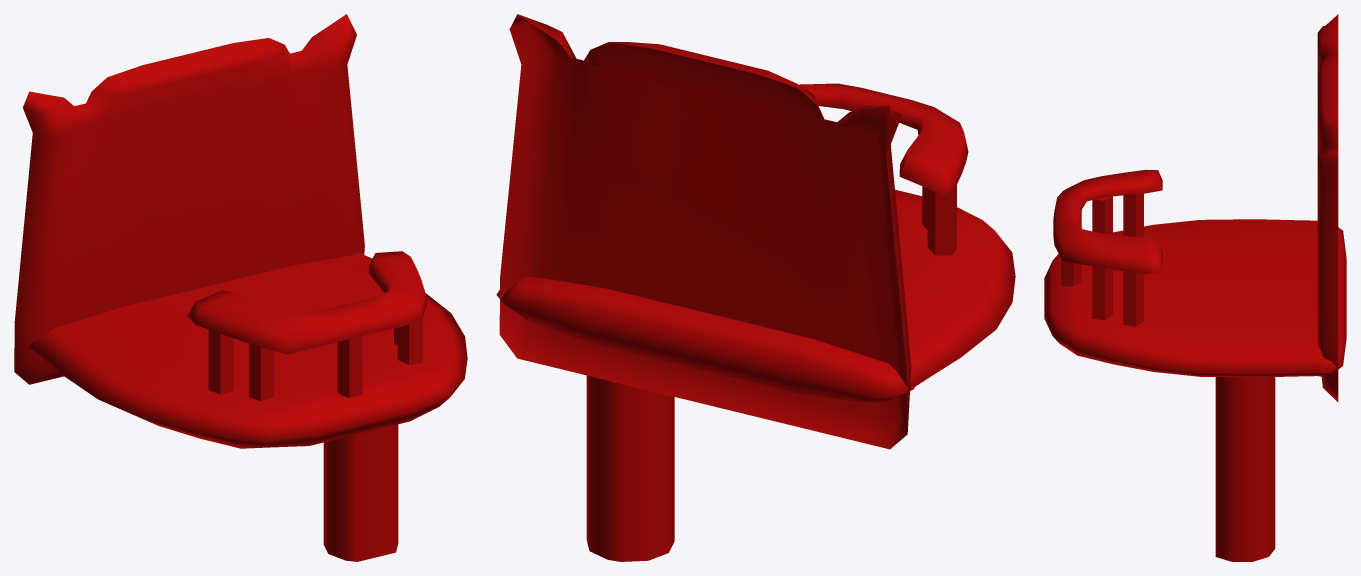
The model's file is SM_ObstacleCourse_VAR.fbx.
3 renders of one model, left to right at view 1: azimuth 30°, elevation 25°; view 2: azimuth 150°, elevation 25°; view 3: azimuth 270°, elevation 25°, orthographic. The views are drawn at different scales.
Parts seen in each view (by area): view 1: SM_ObstacleCourse_VAR; view 2: SM_ObstacleCourse_VAR; view 3: SM_ObstacleCourse_VAR.
Boxes of the visible parts, left/top/right/bottom form: SM_ObstacleCourse_VAR: left=14, top=14, right=467, bottom=561; SM_ObstacleCourse_VAR: left=496, top=14, right=1015, bottom=561; SM_ObstacleCourse_VAR: left=1044, top=14, right=1346, bottom=561.
Size of the model in its own units: 51.8 by 66.38 by 43.56.
